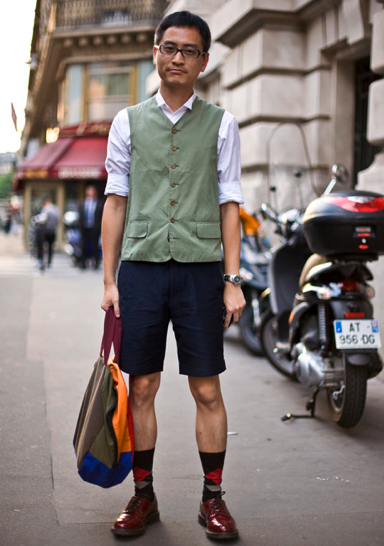Person: (99, 11, 245, 539)
